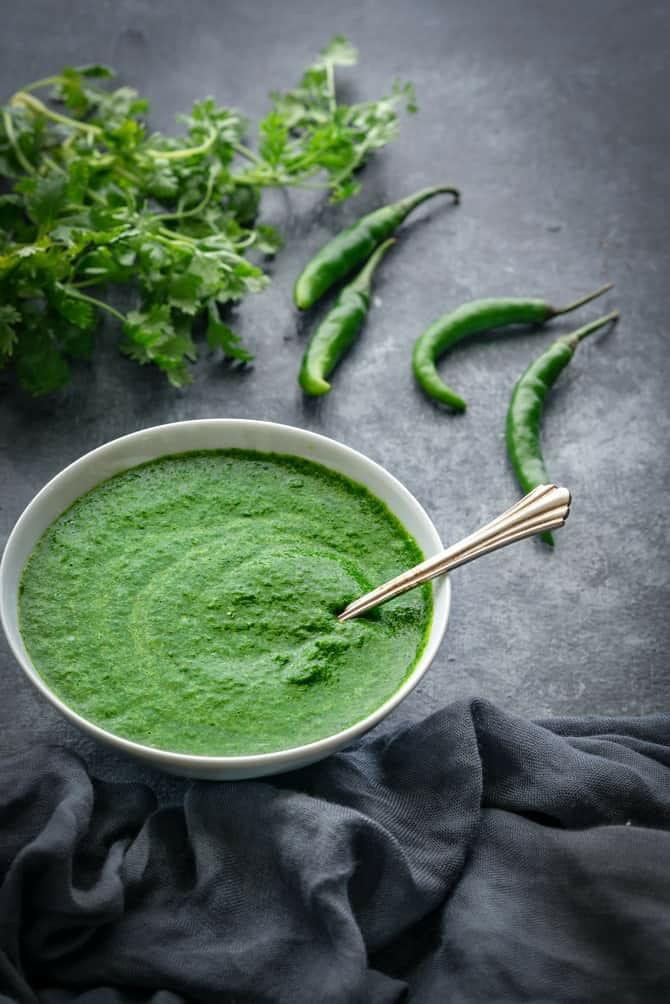GreenChutney: (24, 454, 428, 754)
